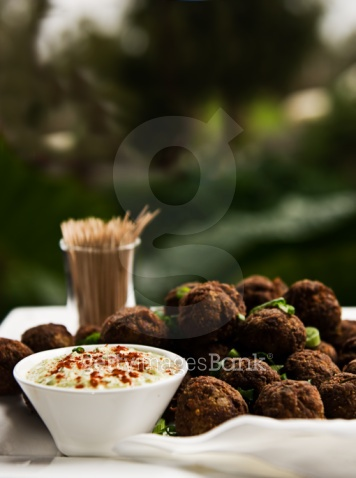meatballs: (183, 281, 240, 340), (254, 379, 326, 425), (184, 375, 240, 430), (245, 307, 302, 358), (286, 276, 333, 331), (223, 359, 276, 405), (100, 303, 158, 345), (280, 343, 336, 386), (1, 339, 34, 392), (322, 370, 356, 415), (22, 323, 68, 351), (245, 275, 284, 304)
